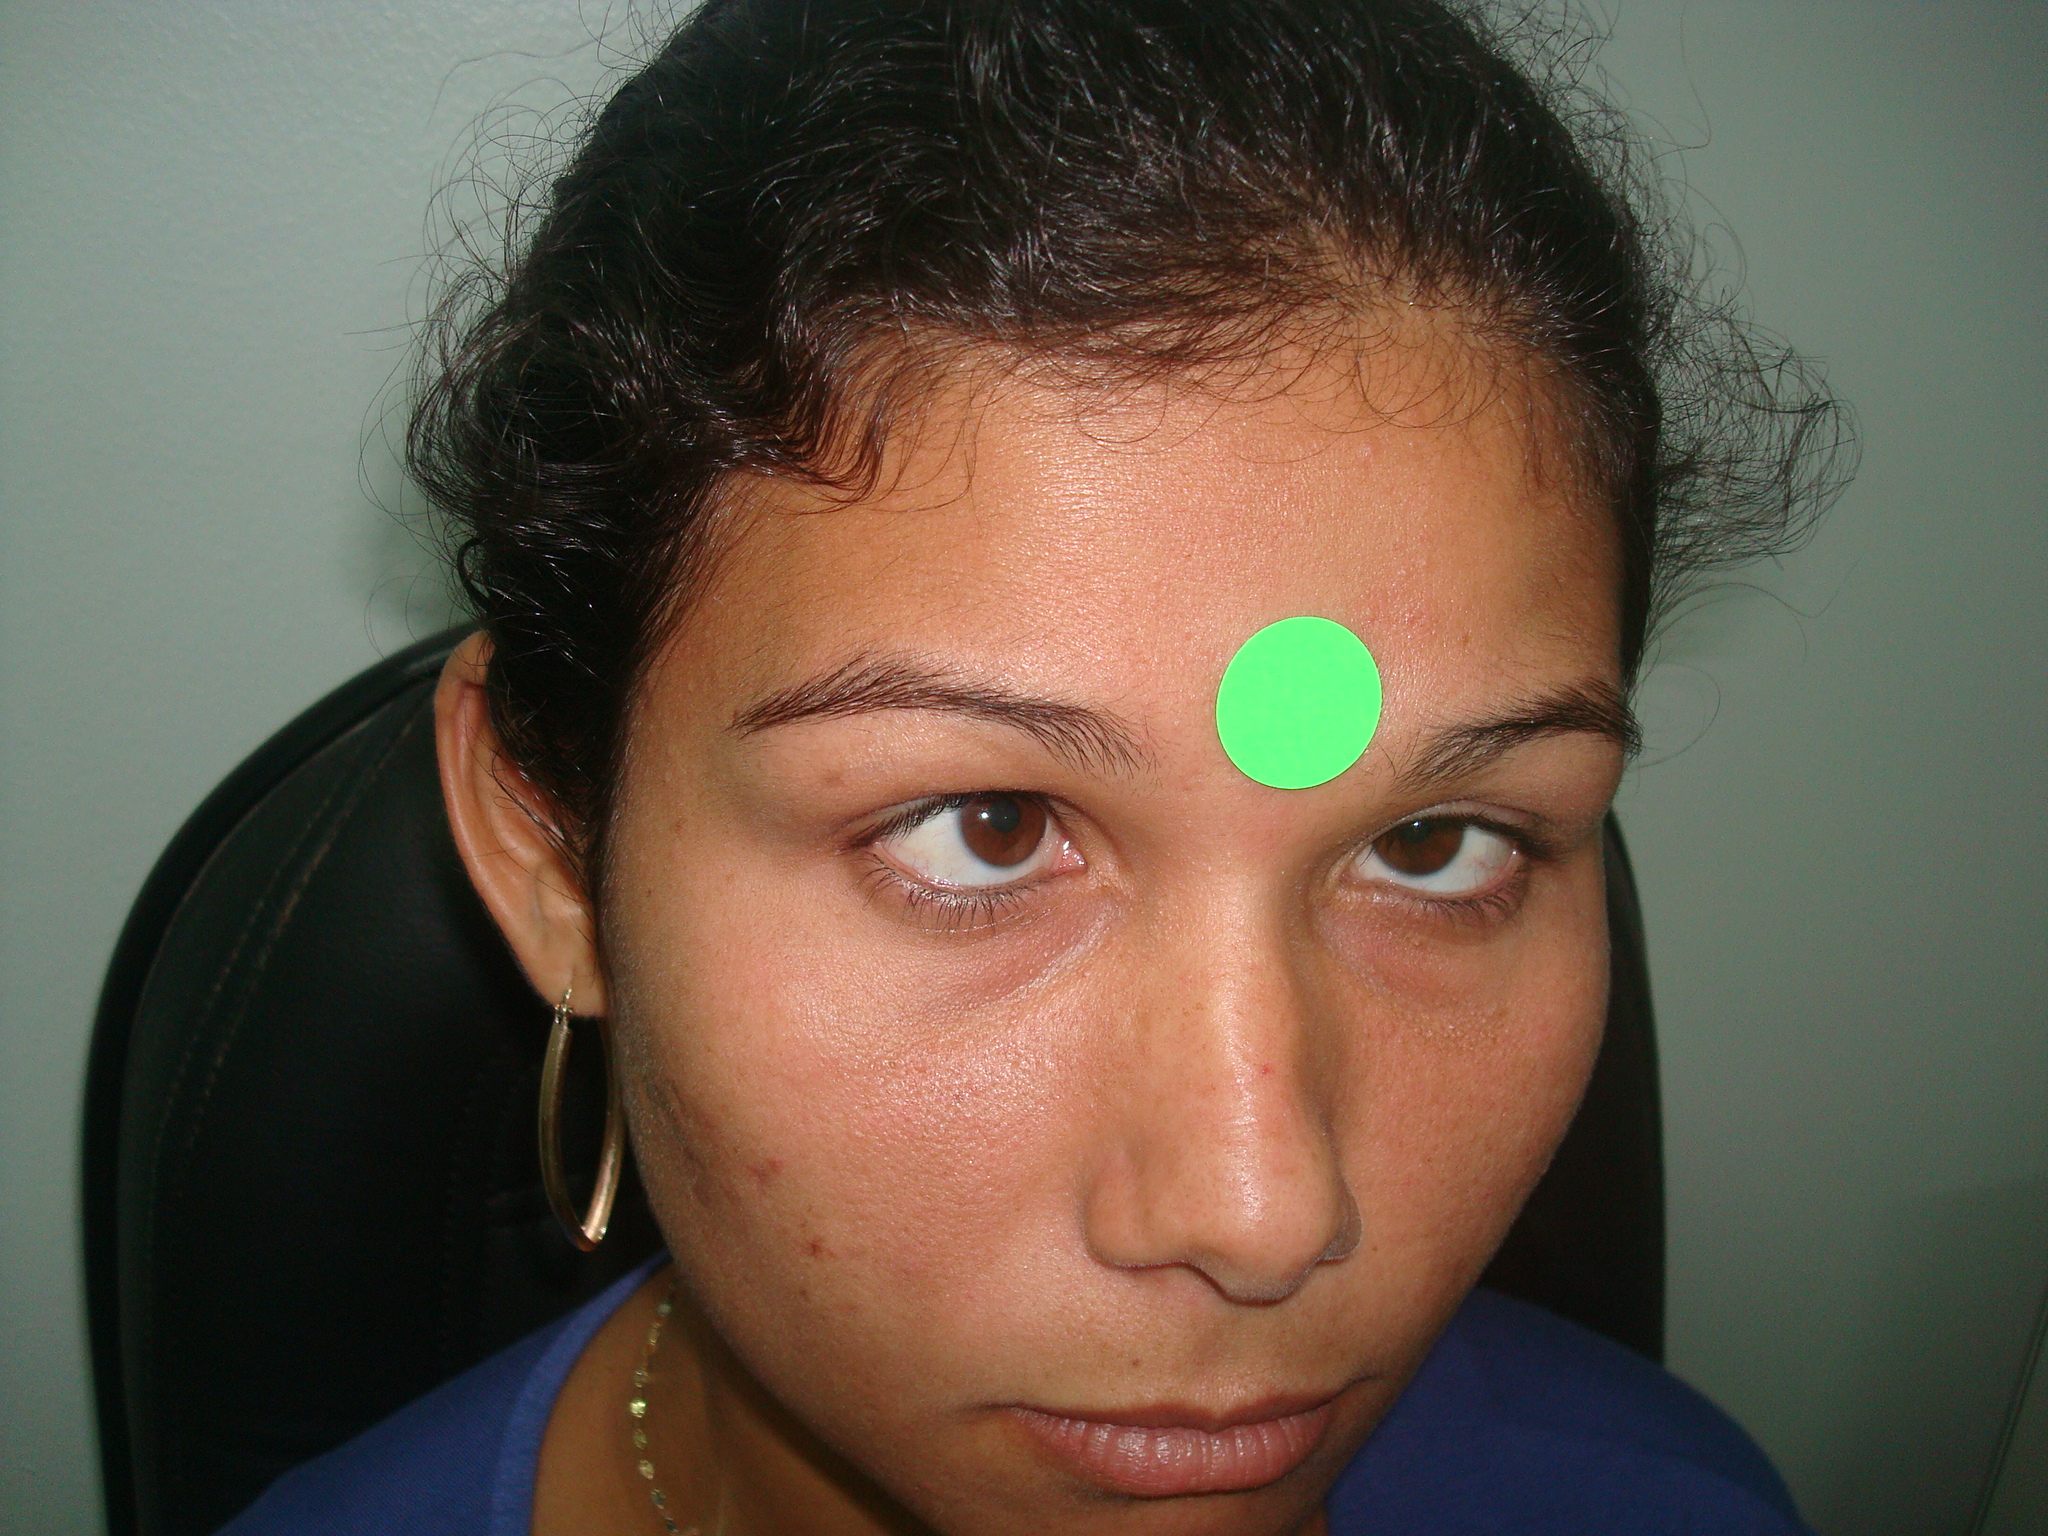flash: (977, 808, 992, 821), (1411, 820, 1421, 829)
limbo: (961, 774, 1048, 860), (1376, 791, 1455, 868)
